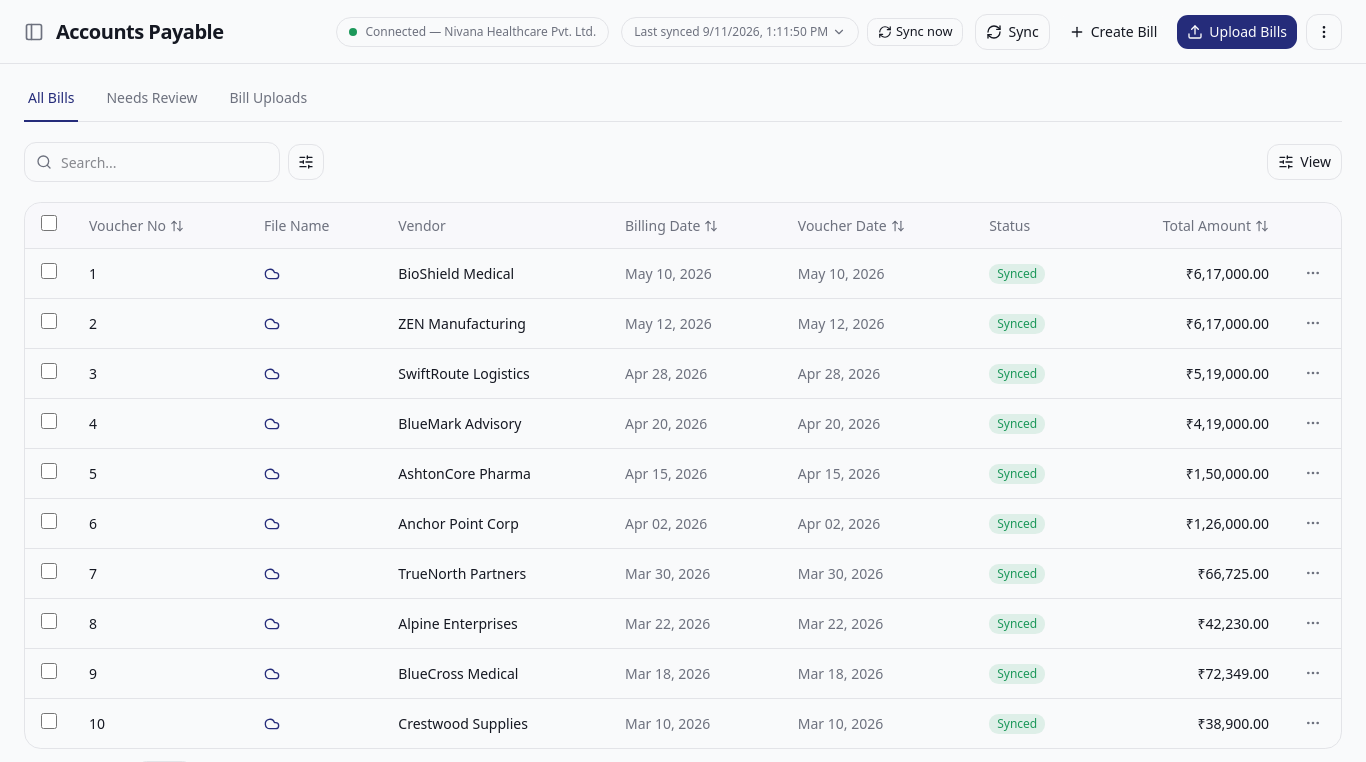
Test case: AccountsPayablePage — Bill Uploads tab (§3.10) › shows a failed pill with Retry, and a skipped hint
Expected: the text "BioShield Medical" is shown, [382,248,609,298]
Click the button "Bill Uploads": (268, 105) [226,88,311,122]
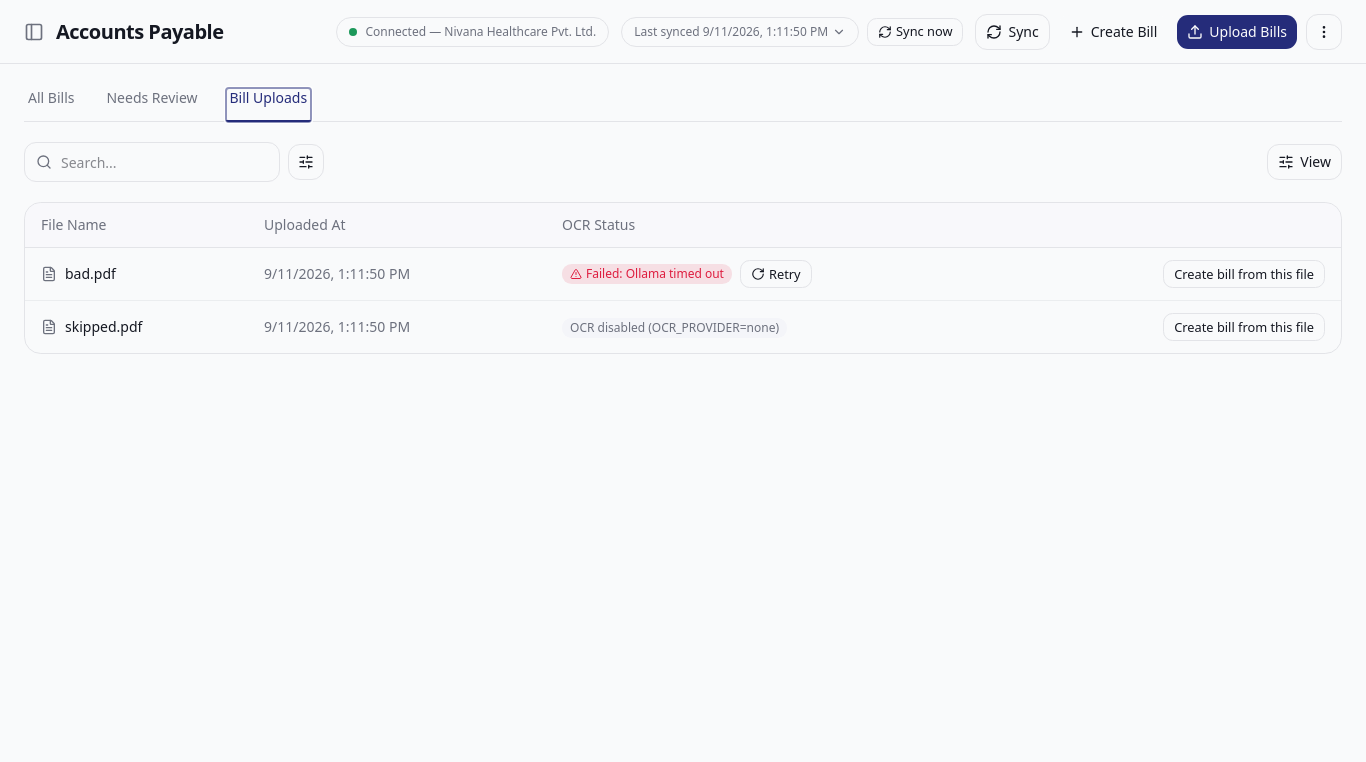
Now the text "Failed: Ollama timed out" is shown, box [562,264,732,284]
Now the button "Retry" is shown, box [740,260,812,288]
Now the text "OCR disabled (OCR_PROVIDER=none)" is shown, box [562,318,787,338]
